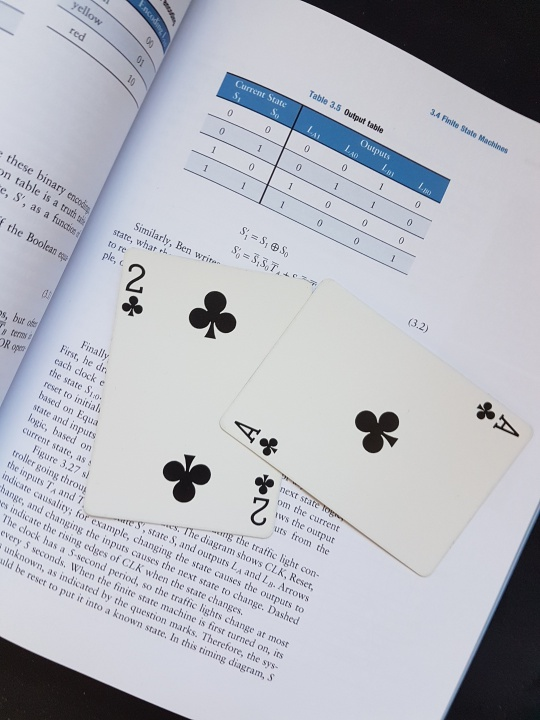2: (83, 233, 313, 545)
ace: (218, 276, 532, 593)
